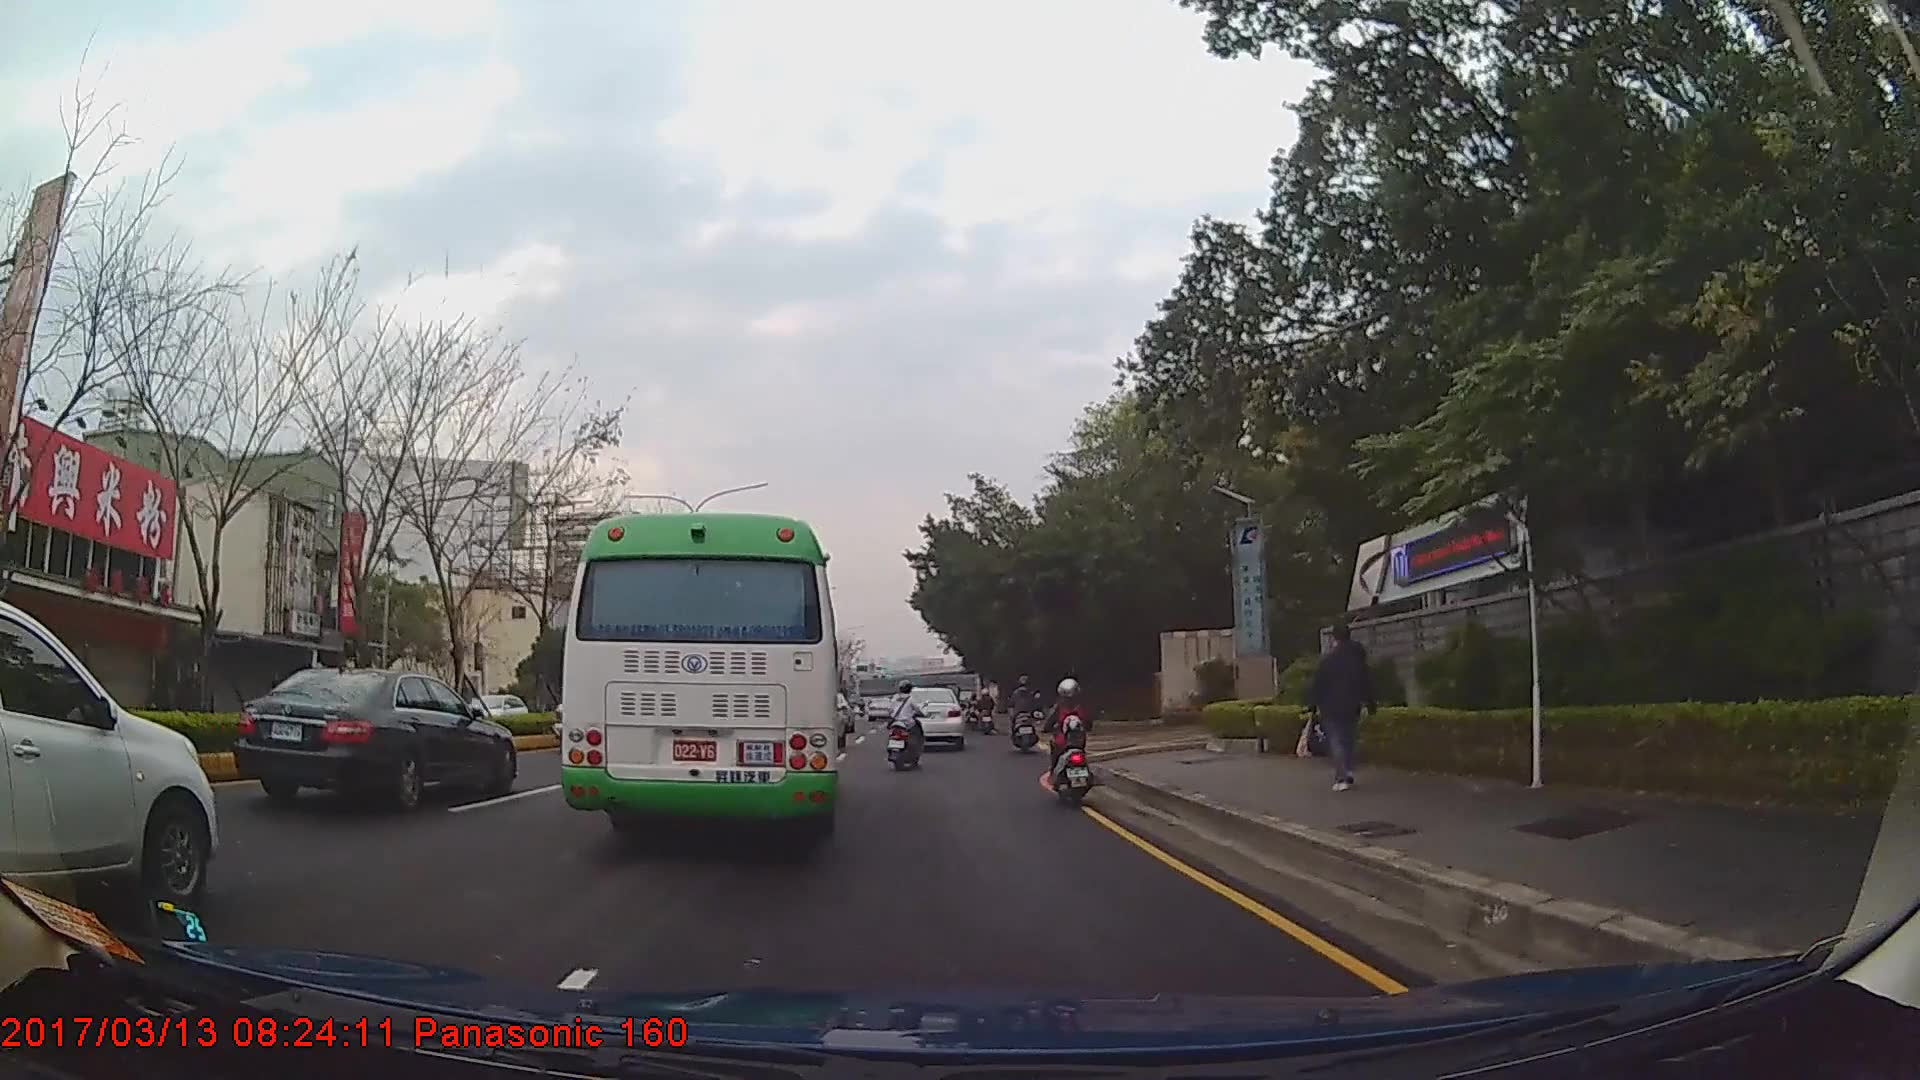pedestrian: (1298, 630, 1379, 788)
rider: (1047, 676, 1092, 802), (887, 680, 925, 769), (1008, 675, 1044, 751), (976, 688, 996, 723)
vehicle: (556, 506, 850, 848), (0, 595, 221, 912), (230, 667, 517, 812), (893, 683, 965, 751), (444, 685, 531, 732)
